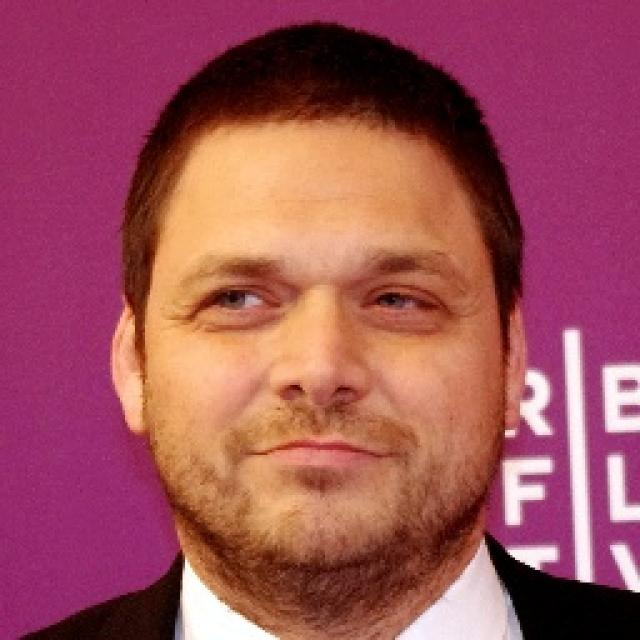earlobe: (120, 389, 152, 436), (497, 379, 525, 431)
eye: (196, 286, 278, 313), (364, 289, 441, 317)
nose: (268, 378, 369, 436)
wholeear: (106, 287, 152, 437), (497, 292, 529, 430)
